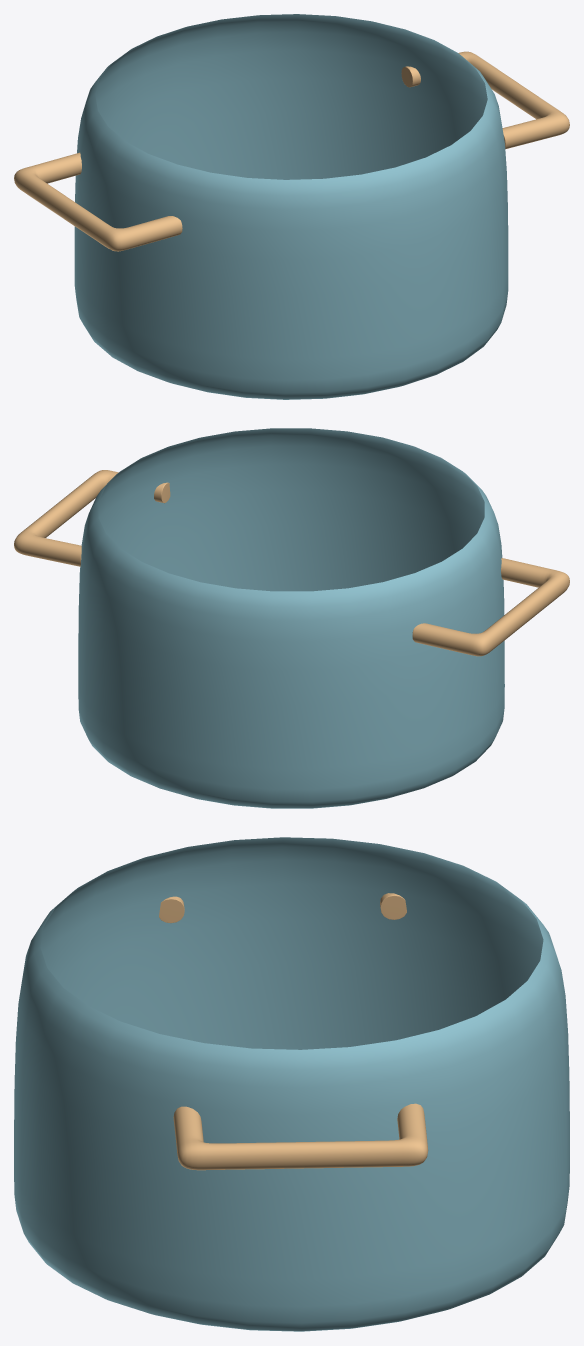
The model's file is Cazuela.fbx.
The picture shows the model from 3 angles, top to bottom: view 1: azimuth 30°, elevation 25°; view 2: azimuth 150°, elevation 25°; view 3: azimuth 270°, elevation 25°; orthographic projection. The views are drawn at different scales.
Parts seen in each view (by area): view 1: Marco.003; view 2: Marco.003; view 3: Marco.003.
Boxes of the visible parts, <box> form: Marco.003: <box>14,14,569,399</box>; Marco.003: <box>14,428,569,808</box>; Marco.003: <box>14,837,569,1331</box>.
Bounding box in the file's own units: 5.43 × 2.42 × 4.29.
